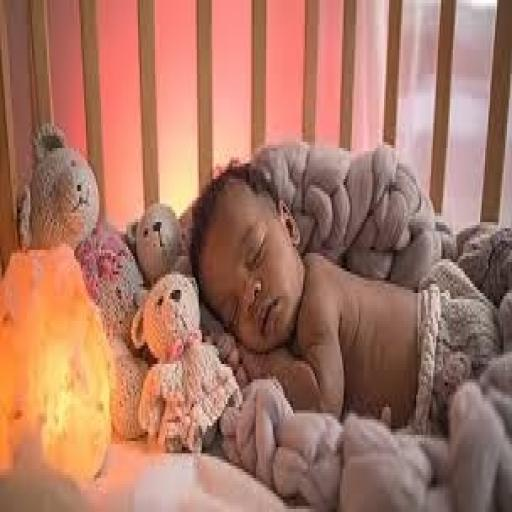baby: (192, 168, 418, 426), (418, 219, 511, 444)
crib: (0, 0, 512, 220)
